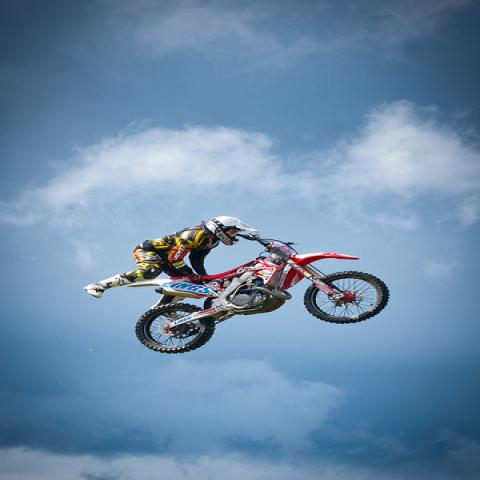motorcycle: (123, 232, 390, 354)
